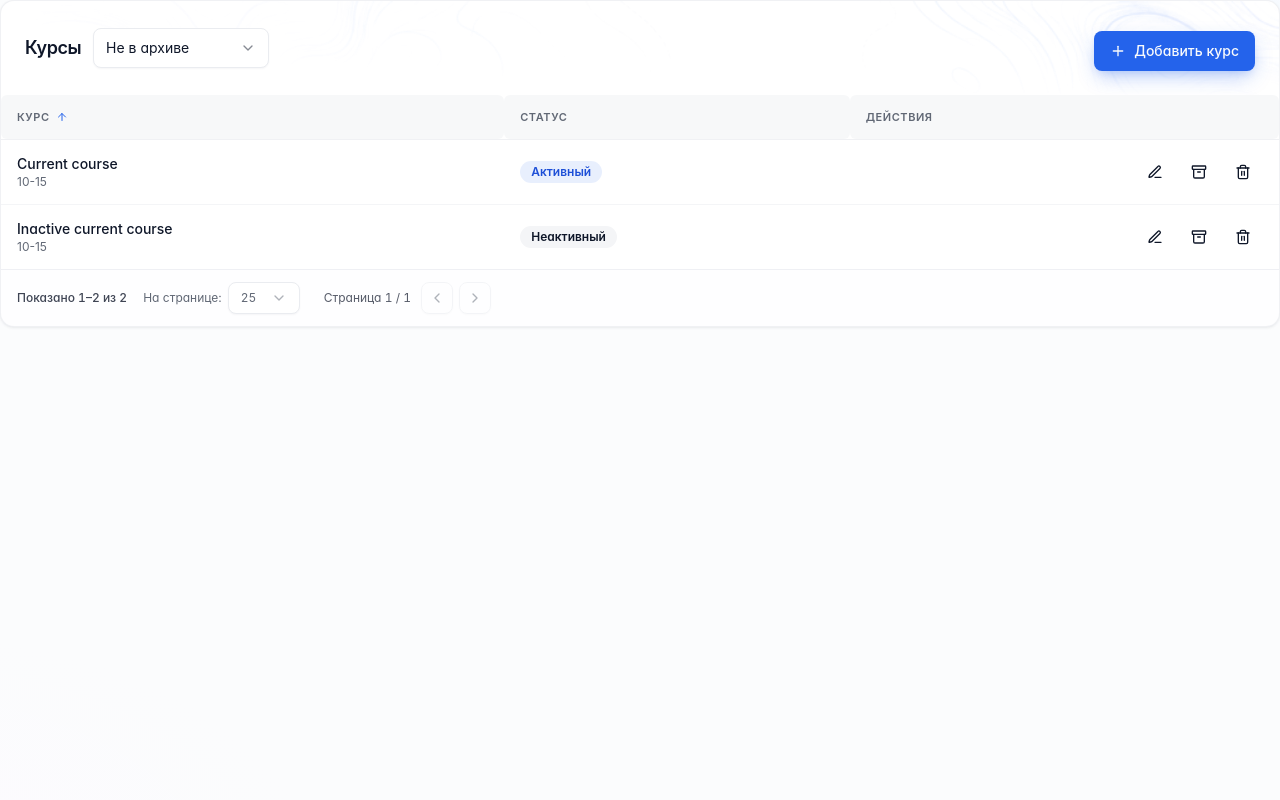
cancels an archive action for courses without changing data
What coordinates should you click on to do the following:
click the 1st button named "Архивировать курс"
I would click on:
 (1199, 172)
Its box is x1=1179 y1=152 x2=1219 y2=192.
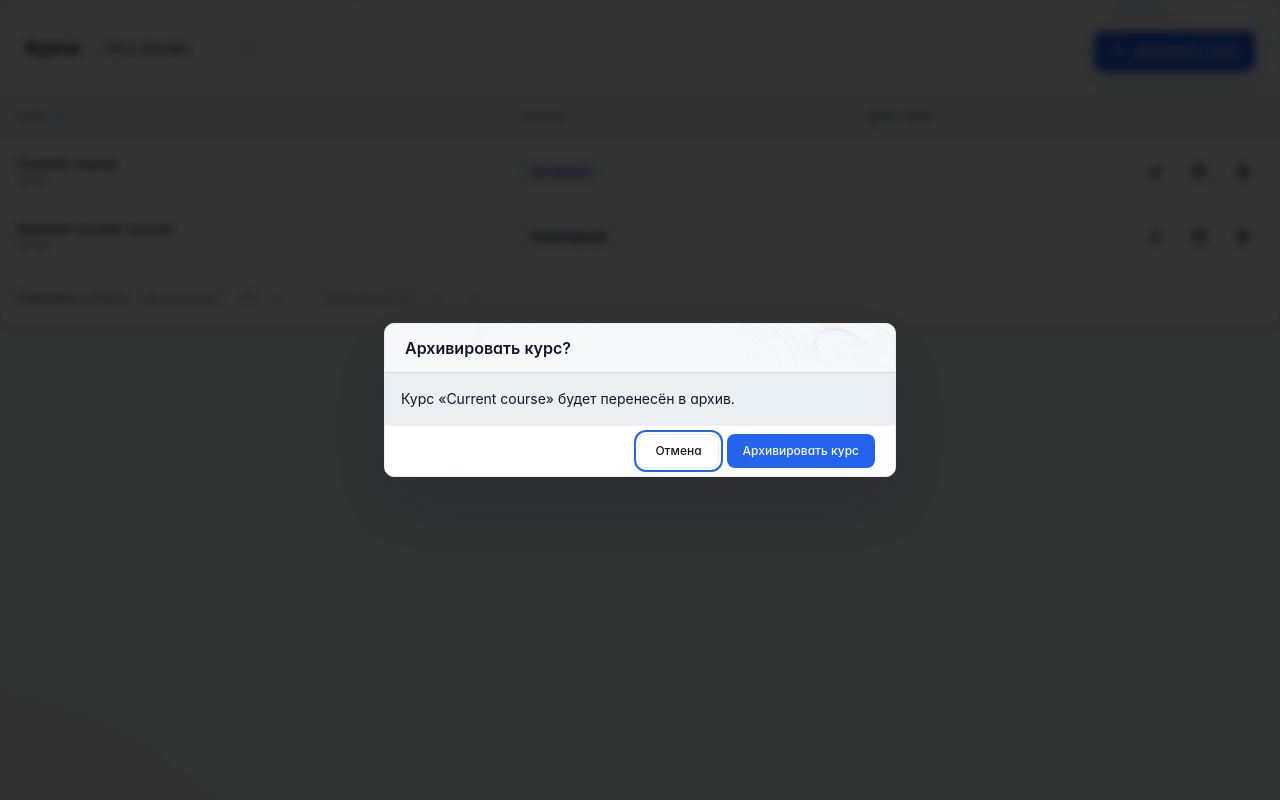
What coordinates should you click on to do the following:
click the button "Отмена"
I would click on:
 (678, 451)
Its box is x1=638 y1=434 x2=719 y2=468.
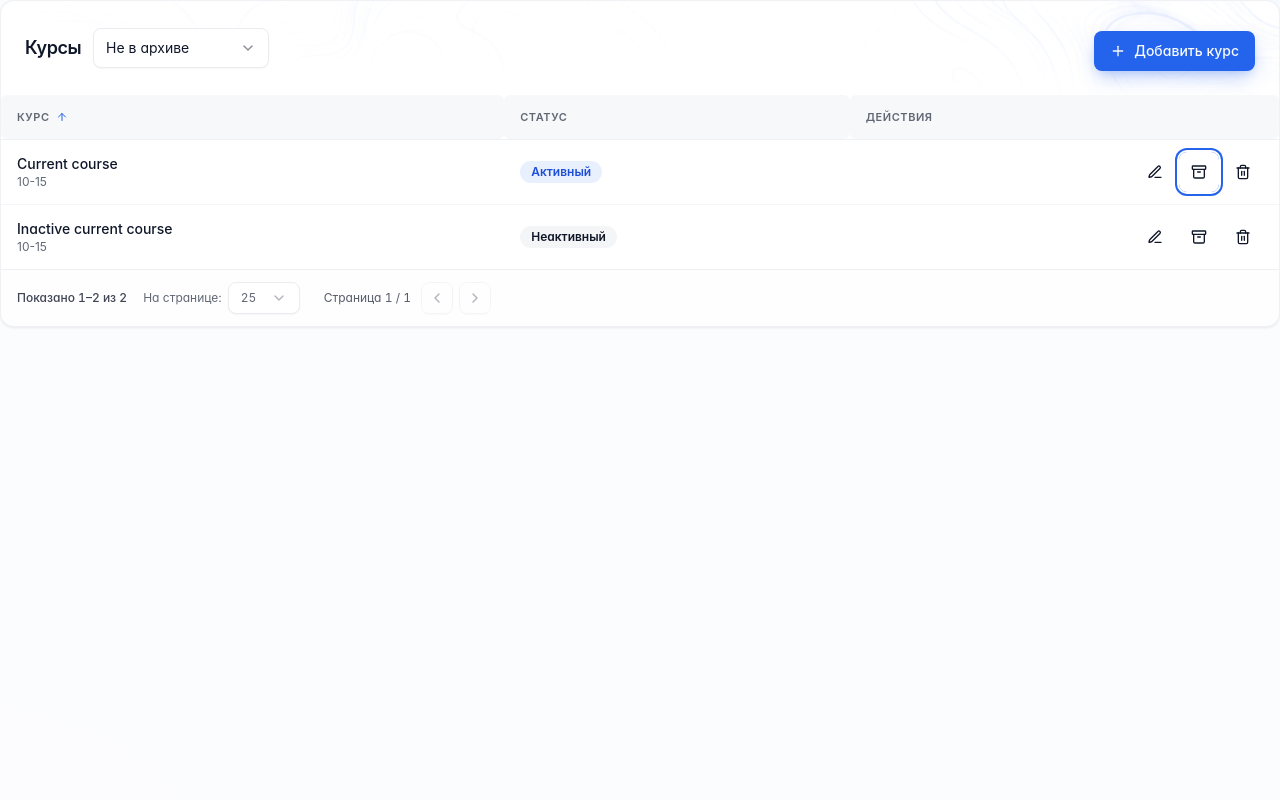
Expected: the dialog is gone
